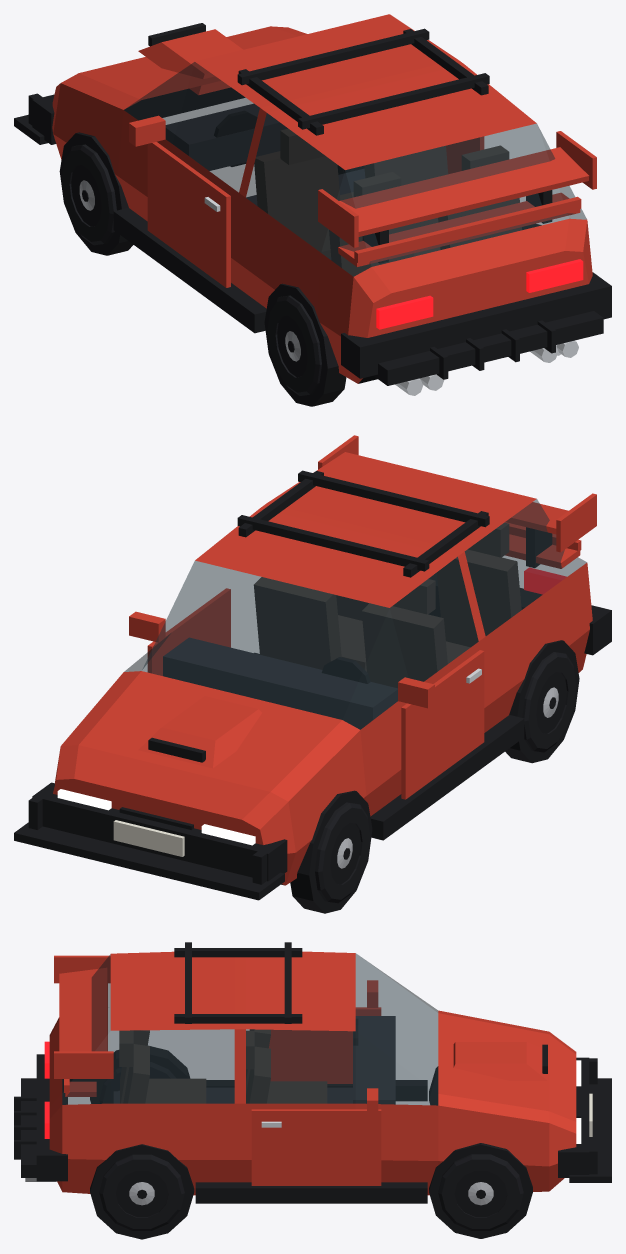
File: compact.glb
3 views of the same model, one above another, from view 1: azimuth 30°, elevation 25°; view 2: azimuth 150°, elevation 25°; view 3: azimuth 270°, elevation 25° (orthographic). The views are drawn at different scales.
Parts seen in each view (by area): view 1: compact, compact_door_fl, compact_wheel_fl, compact_wheel_rl, compact_door_fr; view 2: compact, compact_door_fl, compact_wheel_fl, compact_wheel_rl, compact_door_fr; view 3: compact, compact_door_fr, compact_wheel_fr, compact_wheel_rr, compact_door_fl, compact_wheel_rl.
Part boxes in pixels (left/top/right/bottom): compact: left=14, top=14, right=611, bottom=406; compact_door_fl: left=147, top=142, right=230, bottom=287; compact_wheel_fl: left=62, top=144, right=116, bottom=245; compact_wheel_rl: left=267, top=295, right=321, bottom=395; compact_door_fr: left=446, top=136, right=484, bottom=173; compact: left=14, top=435, right=611, bottom=913; compact_door_fl: left=401, top=650, right=484, bottom=799; compact_wheel_fl: left=315, top=802, right=370, bottom=903; compact_wheel_rl: left=522, top=652, right=576, bottom=752; compact_door_fr: left=147, top=588, right=230, bottom=675; compact: left=14, top=942, right=611, bottom=1239; compact_door_fr: left=251, top=1109, right=381, bottom=1185; compact_wheel_fr: left=438, top=1154, right=523, bottom=1230; compact_wheel_rr: left=99, top=1154, right=184, bottom=1230; compact_door_fl: left=269, top=1007, right=381, bottom=1083; compact_wheel_rl: left=99, top=1062, right=176, bottom=1103.
Bounding box in the file's own units: 2 × 1.62 × 4.2.
